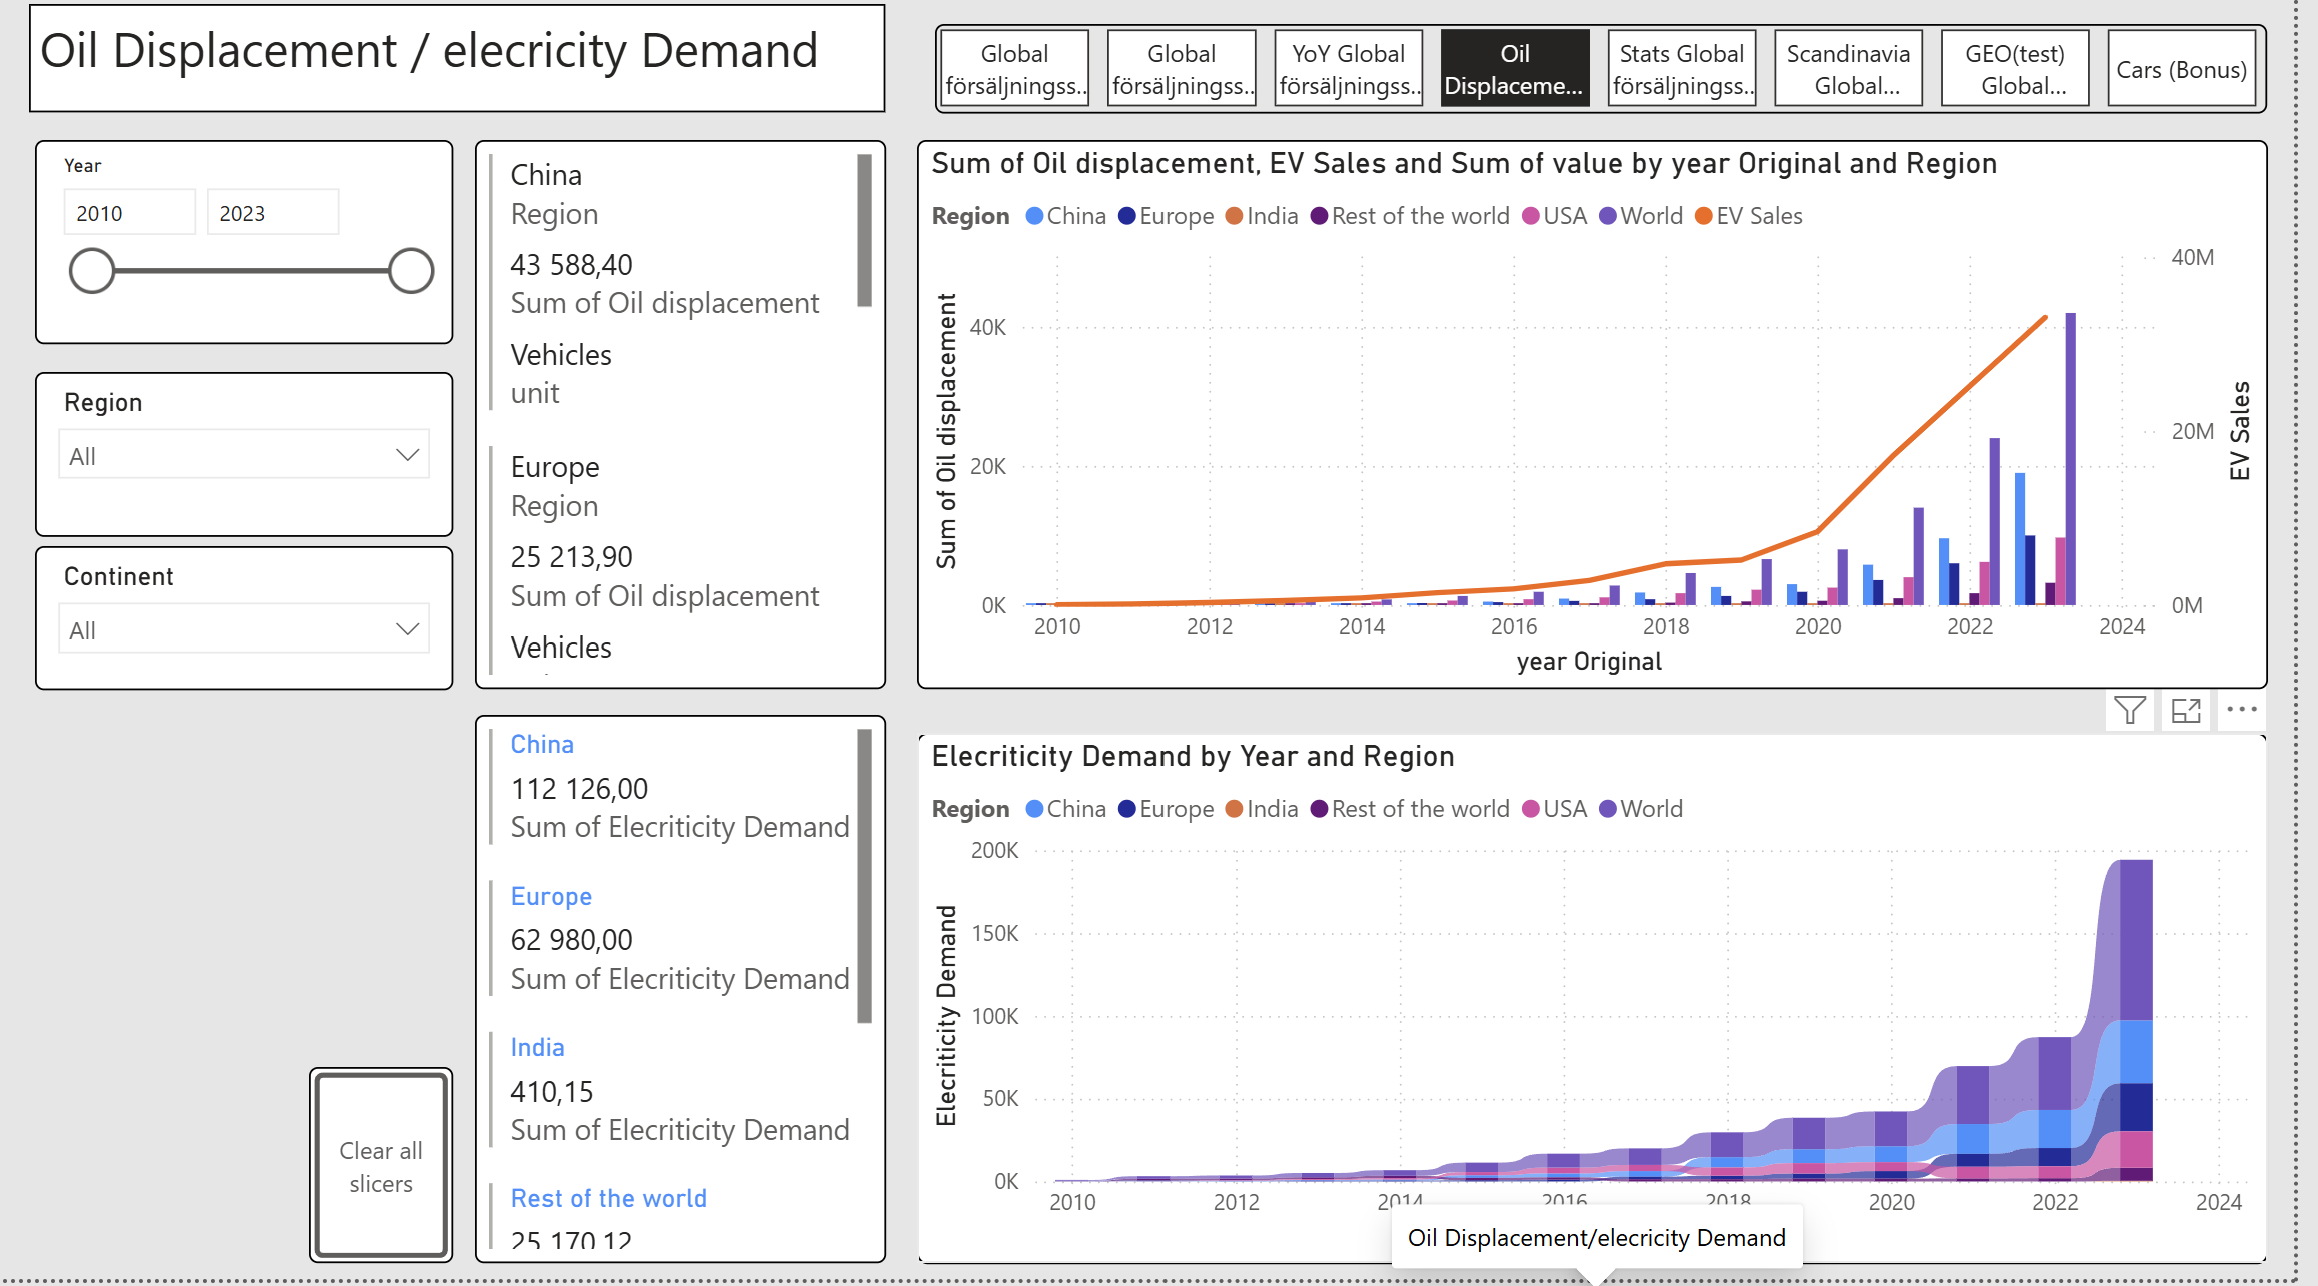

Layout of this report page (visuals, bound fields, positions):
{"tool":"powerbi","page":{"name":"Oil Displacement/elecricity Demand","canvas":[1280,720],"ordinal":3},"visuals":[{"type":"textbox","box":[17.1,9.2,477.8,60.4],"z":0},{"type":"slicer","fields":{"Values":["Dim region.region"]},"box":[19.7,214,233.6,91.9],"z":1000},{"type":"slicer","fields":{"Values":["Dim_date.Year"]},"box":[19.7,85.3,233.6,114.2],"z":2000},{"type":"slicer","fields":{"Values":["Dim Region.Kontinent"]},"box":[19.7,311.1,233.6,80.1],"z":3000},{"type":"actionButton","box":[173.6,601.3,80.6,109.7],"z":4000},{"type":"pageNavigator","box":[522.4,19.7,742.9,49.9],"z":5000},{"type":"ribbonChart","title":"Elecriticity Demand by Year and Region","fields":{"Category":["Dim_date.Year"],"Y":["Sum(Fact_Electricity Demand.Elecriticity Demand)"],"Series":["Dim Region.region"]},"box":[511.9,414.8,753.5,296.7],"z":6000},{"type":"lineClusteredColumnComboChart","fields":{"Category":["Dim_date.year"],"Series":["Dim Region.region"],"Y":["Sum(Fact_Oil displacement, Million lge.Oil displacement)"],"Y2":["+Measure.TotalSales"]},"box":[511.9,85.3,753.5,305.8],"z":7000},{"type":"multiRowCard","fields":{"Values":["Dim Region.Region","Sum(Fact_Oil displacement, Million lge.Oil displacement)","Fact_EV_Sales.unit"]},"box":[265.2,85.3,229.7,305.8],"z":8000},{"type":"multiRowCard","fields":{"Values":["Dim Region.Region","Sum(Fact_Electricity Demand.Elecriticity Demand)"]},"box":[265.2,405.6,229.7,305.8],"z":9000}]}

Visuals, with their boxes on the page's 1280x720 design canvas (x1, y1, x2, y2). These are canvas units, not pixel positions in the 2318x1286 screenshot, which may show the page scaled, cropped or inside an application window:
textbox: [x1=17, y1=9, x2=495, y2=70]
slicer - Dim region.region: [x1=20, y1=214, x2=253, y2=306]
slicer - Dim_date.Year: [x1=20, y1=85, x2=253, y2=200]
slicer - Dim Region.Kontinent: [x1=20, y1=311, x2=253, y2=391]
actionButton: [x1=174, y1=601, x2=254, y2=711]
pageNavigator: [x1=522, y1=20, x2=1265, y2=70]
"Elecriticity Demand by Year and Region" ribbonChart: [x1=512, y1=415, x2=1265, y2=712]
lineClusteredColumnComboChart - Dim_date.year x Dim Region.region: [x1=512, y1=85, x2=1265, y2=391]
multiRowCard - Dim Region.Region x Sum(Fact_Oil displacement, Million lge.Oil displacement): [x1=265, y1=85, x2=495, y2=391]
multiRowCard - Dim Region.Region x Sum(Fact_Electricity Demand.Elecriticity Demand): [x1=265, y1=406, x2=495, y2=711]
